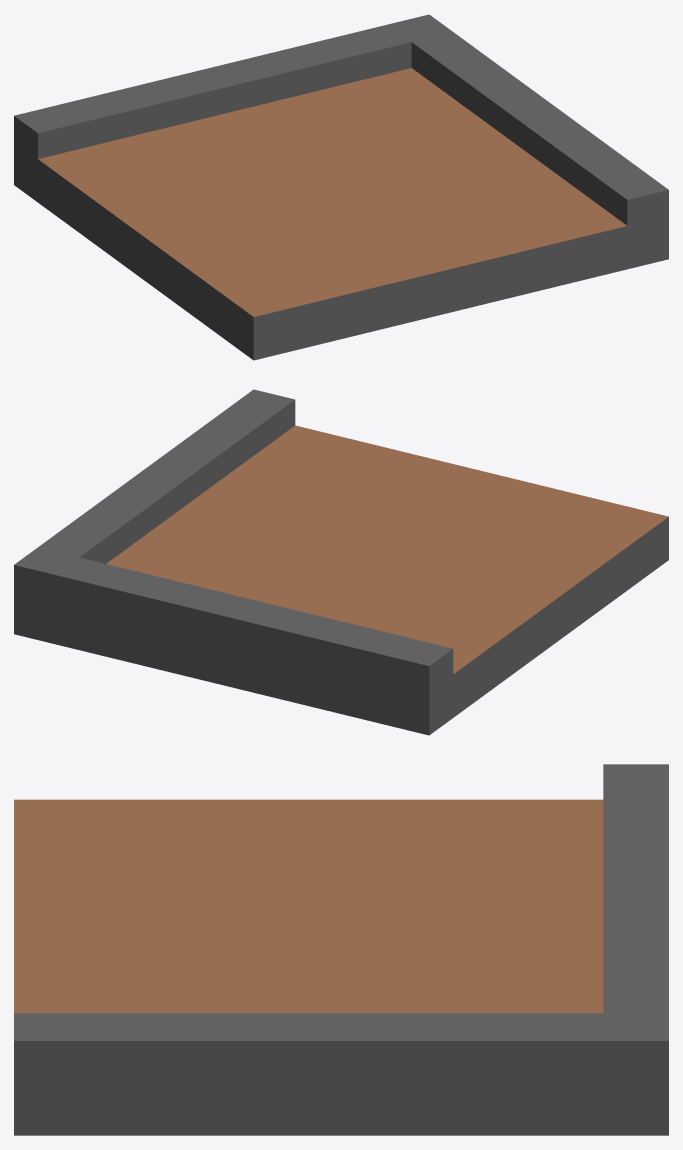
Rendered from road_corner.fbx.
The picture shows the model from 3 angles, top to bottom: view 1: azimuth 30°, elevation 25°; view 2: azimuth 150°, elevation 25°; view 3: azimuth 270°, elevation 25°; orthographic projection. The views are drawn at different scales.
Visible parts, largest first — view 1: Cube.007; view 2: Cube.007; view 3: Cube.007.
Part boxes in pixels (left/top/right/bottom): Cube.007: left=14, top=14, right=668, bottom=360; Cube.007: left=14, top=389, right=668, bottom=735; Cube.007: left=14, top=764, right=668, bottom=1135.
Size of the model in its own units: 100 by 15.96 by 100.
